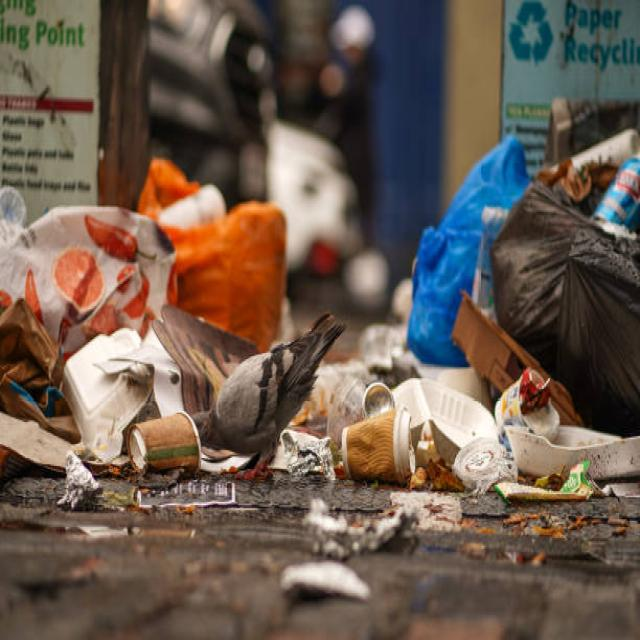cardboard: (459, 296, 526, 394)
plastic: (324, 395, 424, 482), (133, 392, 193, 480)
trash: (10, 228, 272, 362), (529, 144, 637, 378), (416, 158, 517, 298)
